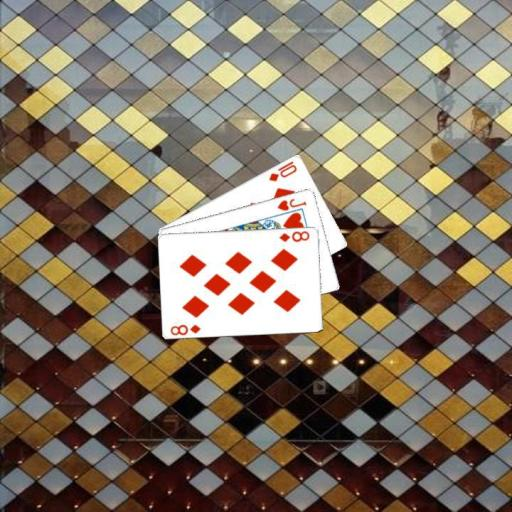10D: (266, 158, 299, 183)
8D: (276, 228, 311, 243), (168, 321, 203, 336)
JH: (274, 195, 308, 212)
